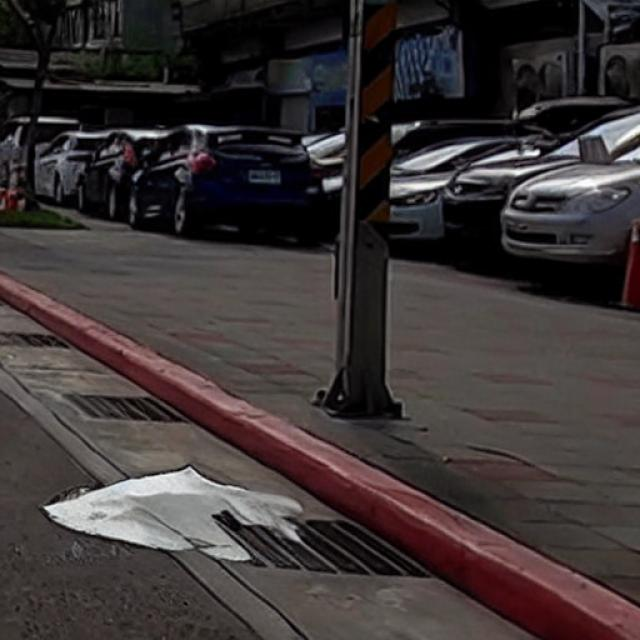puddle: (46, 467, 304, 575)
